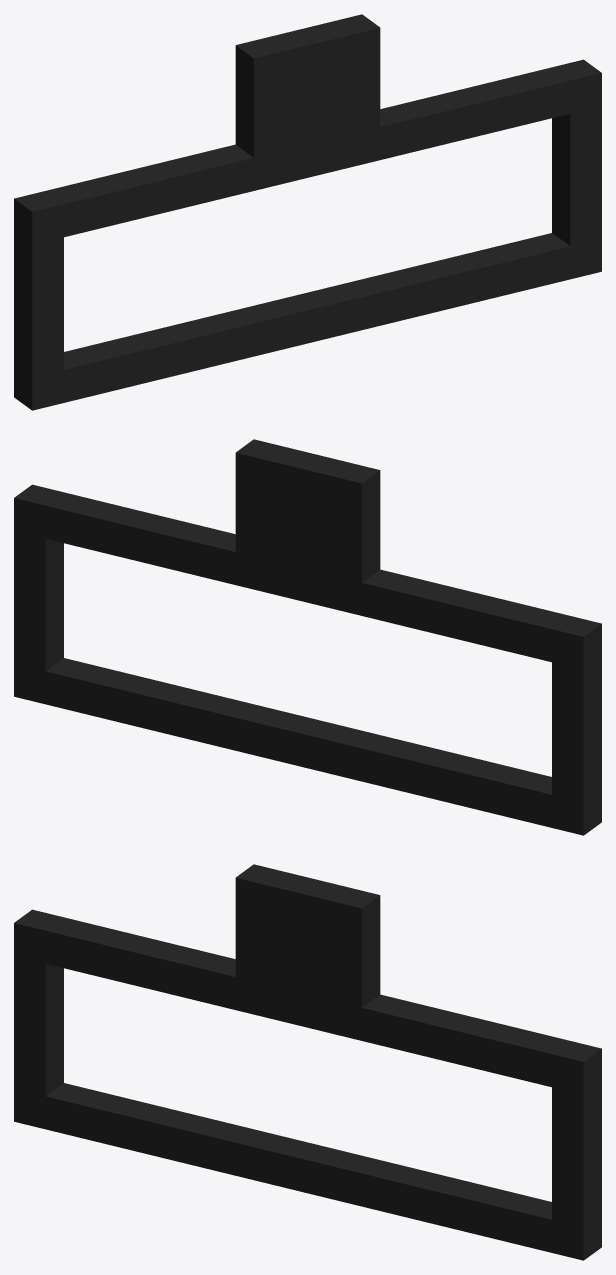
File: top-panel.obj
The picture shows the model from 3 angles, top to bottom: view 1: azimuth 30°, elevation 25°; view 2: azimuth 150°, elevation 25°; view 3: azimuth 330°, elevation 25°; orthographic projection.
Size of the model in its own units: 1.8 by 0.9 by 0.1.
Materials: 1 (1 with a texture image).
